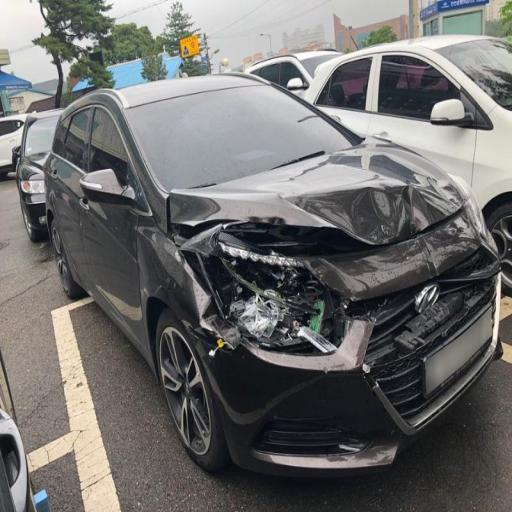broken: (170, 172, 314, 384)
dent: (320, 158, 439, 262)
